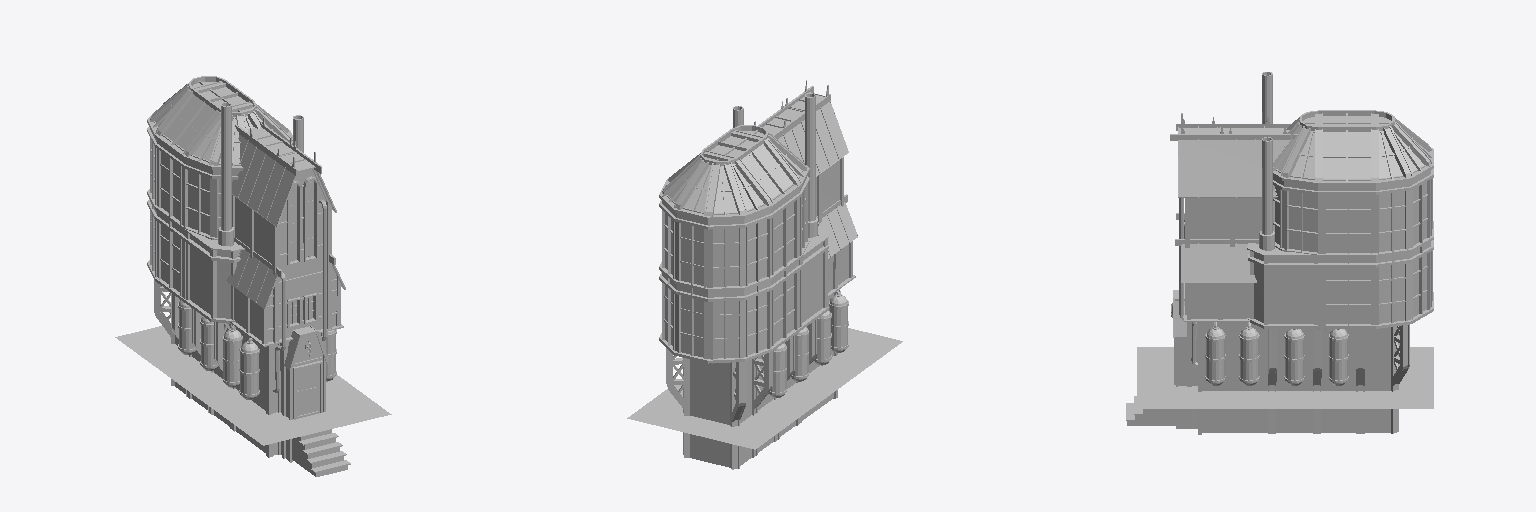
Rendered from HOUSE_LGH_TIR_3.obj.
The picture shows the model from 3 angles: view 1: azimuth 30°, elevation 25°; view 2: azimuth 150°, elevation 25°; view 3: azimuth 270°, elevation 25°; orthographic projection.
Visible parts, largest first — view 1: Object031, Object032, Plane013, Object092, Shape413, Cylinder113, Box440, Circle090, Sphere048, Object094, Box439, Line095 (+4 smaller); view 2: Object032, Object092, Object031, Plane013, Cylinder113, Shape413, Sphere048, Line095, Sphere049, Sphere050, Sphere051, Shape412; view 3: Object031, Object032, Object092, Plane013, Shape413, Cylinder113, Line095, Sphere049, Sphere048, Sphere050, Sphere051, Box440 (+4 smaller).
Part boxes in pixels (x1,y1,x2,y2): Object031: (175, 127, 343, 460); Object032: (147, 76, 292, 431); Plane013: (115, 326, 391, 445); Object092: (155, 82, 313, 323); Shape413: (185, 195, 340, 462); Cylinder113: (218, 102, 303, 246); Box440: (292, 429, 350, 476); Circle090: (287, 176, 318, 327); Sphere048: (239, 329, 336, 399); Object094: (230, 199, 326, 392); Box439: (296, 365, 319, 418); Line095: (234, 122, 335, 277); Object032: (659, 125, 828, 469); Object092: (665, 131, 800, 358); Object031: (690, 95, 857, 467); Plane013: (627, 328, 902, 449); Cylinder113: (733, 93, 817, 237); Shape413: (799, 157, 852, 398); Sphere048: (829, 295, 848, 352); Line095: (758, 86, 847, 217); Sphere049: (813, 311, 831, 365); Sphere050: (791, 327, 808, 381); Sphere051: (769, 343, 786, 397); Shape412: (662, 261, 798, 297); Object031: (1175, 128, 1390, 432); Object032: (1247, 110, 1433, 433); Object092: (1273, 116, 1426, 323); Plane013: (1137, 347, 1433, 408); Shape413: (1176, 198, 1317, 434); Cylinder113: (1259, 72, 1274, 250); Line095: (1170, 124, 1297, 245); Sphere049: (1239, 328, 1259, 385); Sphere048: (1205, 328, 1225, 385); Sphere050: (1284, 329, 1304, 385); Sphere051: (1329, 329, 1348, 385); Box440: (1126, 396, 1175, 425).
Bounding box in the file's own units: 64.31 × 158 × 133.